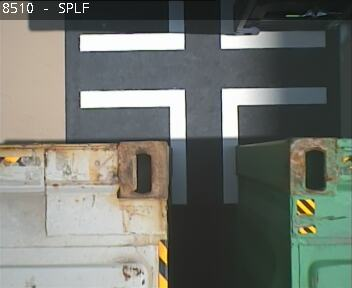groundmarker_1: (79, 89, 329, 204)
